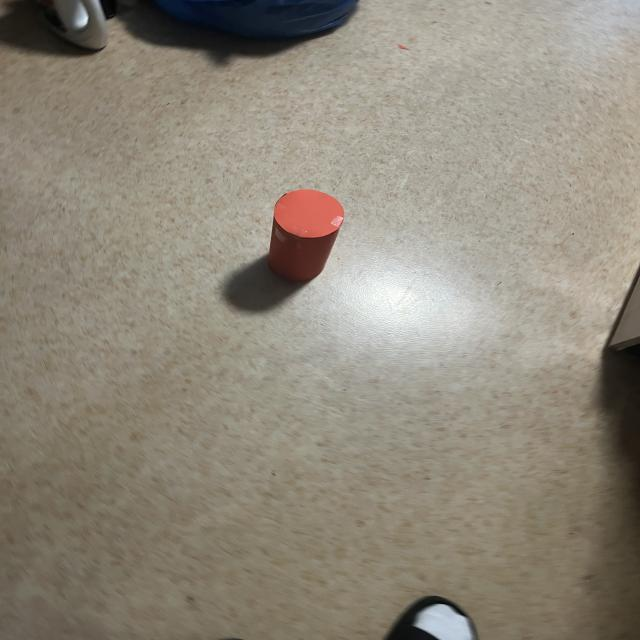przeszkoda: (268, 189, 344, 282)
